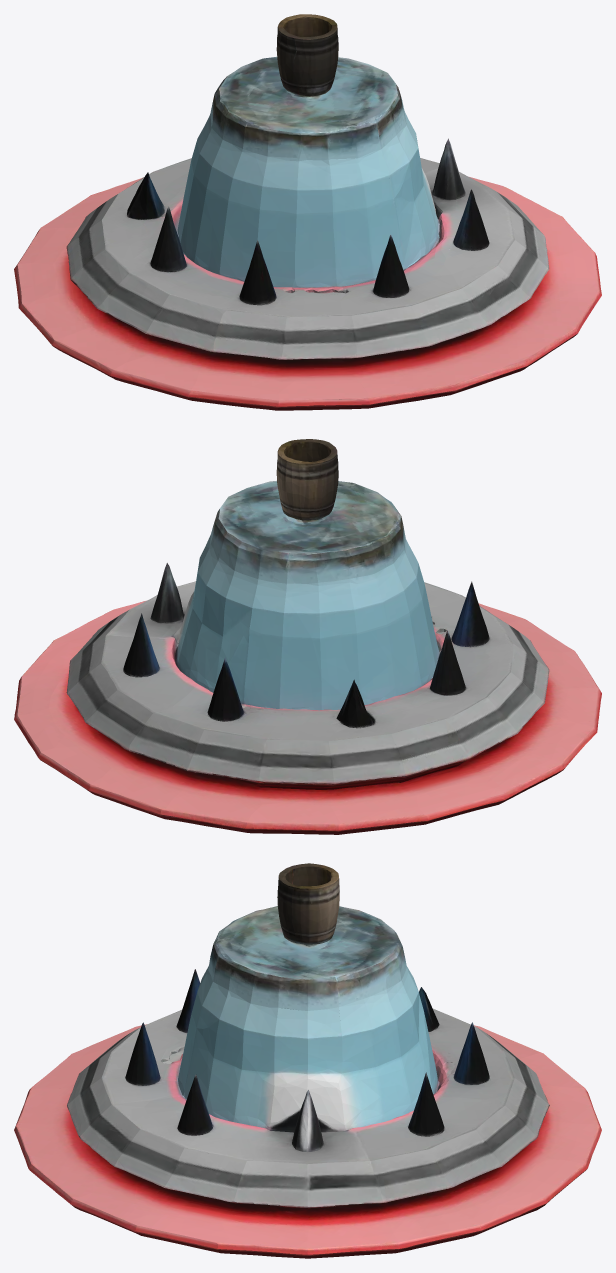
Rendered from nano_t05.glb.
3 renders of one model, top to bottom at view 1: azimuth 30°, elevation 25°; view 2: azimuth 150°, elevation 25°; view 3: azimuth 270°, elevation 25°, orthographic.
Visible parts, largest first — view 1: geometry_0; view 2: geometry_0; view 3: geometry_0.
Part boxes in pixels (x1=…): geometry_0: x1=14, y1=14, x2=601, y2=410; geometry_0: x1=14, y1=439, x2=601, y2=834; geometry_0: x1=14, y1=863, x2=601, y2=1258.
Size of the model in its own units: 2 by 1.3 by 2.
Materials: 1 (1 with a texture image).
